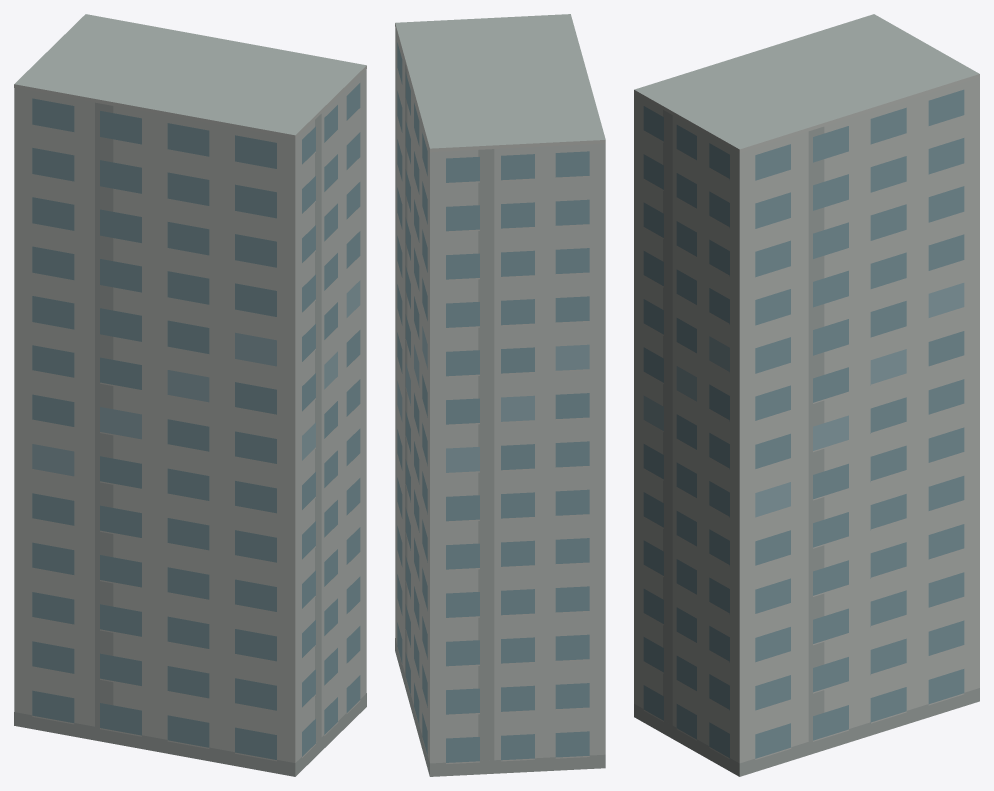
Rendered from residential-752abacf-9939-4256-b1f1-a070611cab61.glb.
The picture shows the model from 3 angles, left to right: view 1: azimuth 30°, elevation 25°; view 2: azimuth 150°, elevation 25°; view 3: azimuth 270°, elevation 25°; orthographic projection. The views are drawn at different scales.
Visible parts, largest first — view 1: residential-752abacf-9939-4256-b1f1-a070611cab61.tmp; view 2: residential-752abacf-9939-4256-b1f1-a070611cab61.tmp; view 3: residential-752abacf-9939-4256-b1f1-a070611cab61.tmp.
Boxes of the visible parts, <box> form: residential-752abacf-9939-4256-b1f1-a070611cab61.tmp: <box>14,14,366,776</box>; residential-752abacf-9939-4256-b1f1-a070611cab61.tmp: <box>395,14,605,776</box>; residential-752abacf-9939-4256-b1f1-a070611cab61.tmp: <box>634,14,979,776</box>.
Size of the model in its own units: 19.46 by 42 by 20.98.
